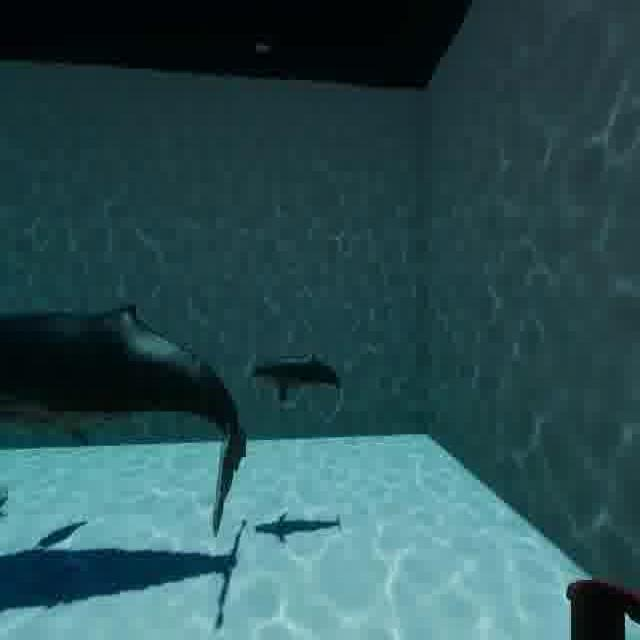Cylinder: (550, 564, 640, 640)
Whale: (0, 294, 253, 570), (253, 333, 347, 429)
